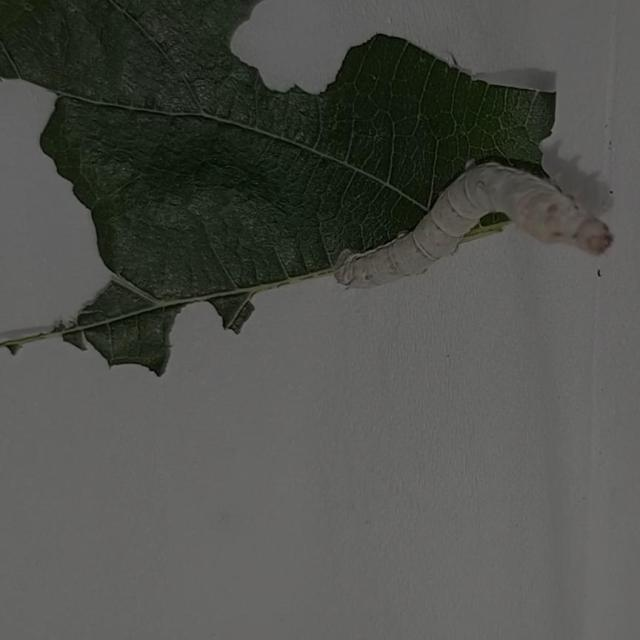Healthy: (305, 138, 629, 307)
